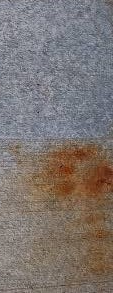Corrosion: (1, 138, 113, 293)
